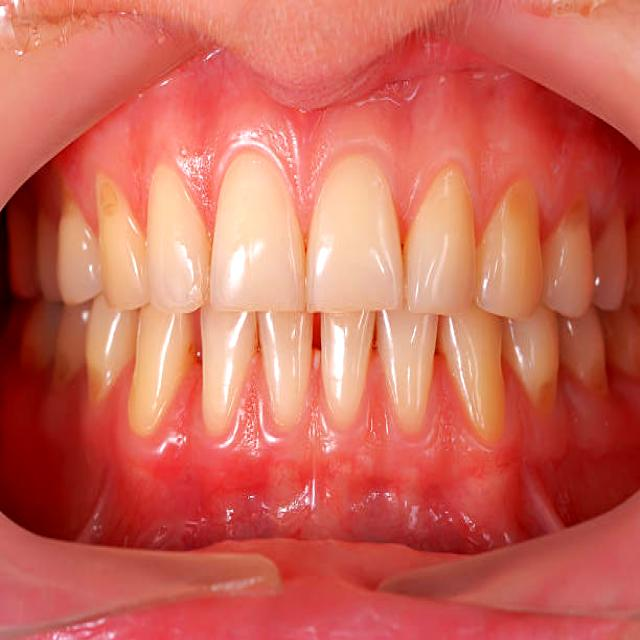gingivitis: (53, 53, 639, 241), (53, 379, 639, 523)
